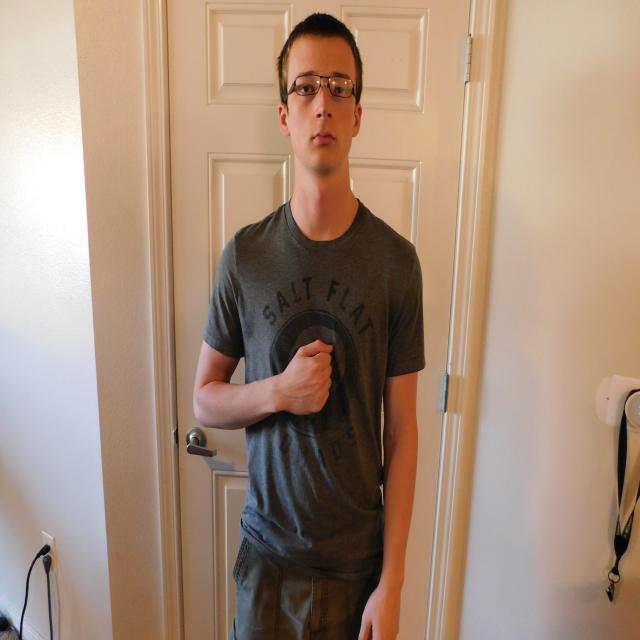sorry: (284, 340, 334, 416)
